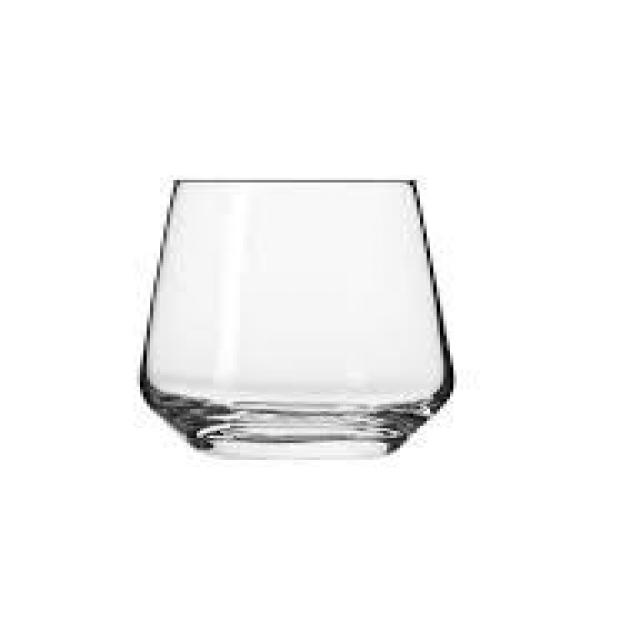non-organic waste: (130, 169, 463, 461)
